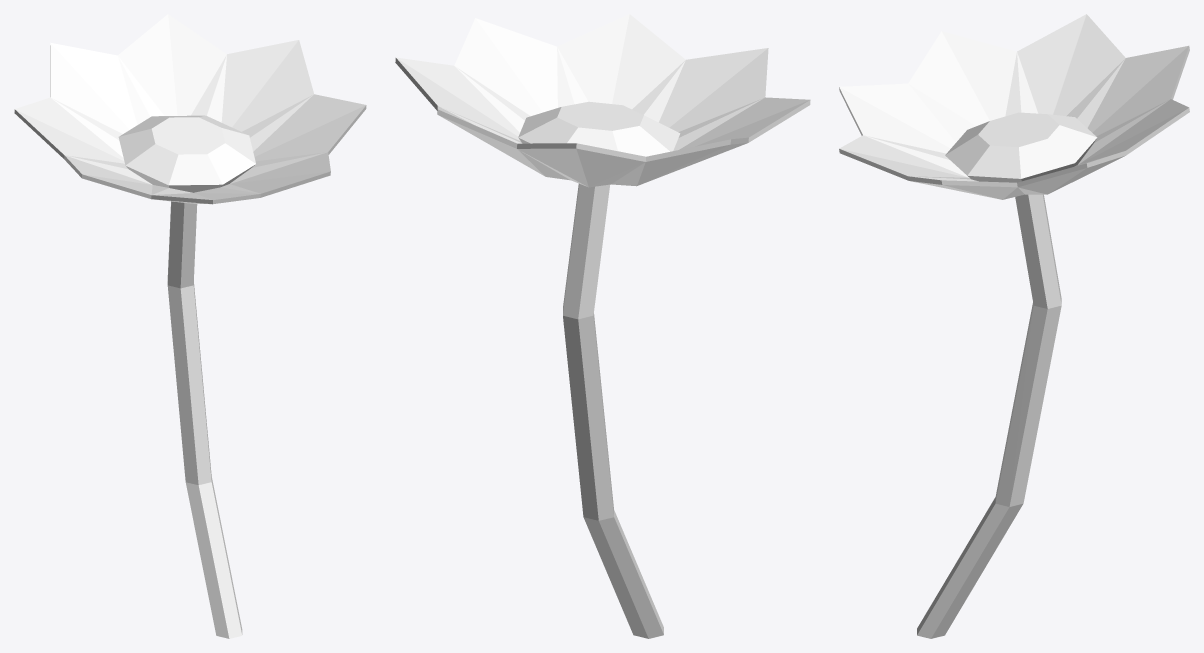
File: Env_Flowers_04.glb
3 views of the same model, side by side, from view 1: azimuth 30°, elevation 25°; view 2: azimuth 150°, elevation 25°; view 3: azimuth 270°, elevation 25° (orthographic). The views are drawn at different scales.
Parts seen in each view (by area): view 1: Env_Flowers_04; view 2: Env_Flowers_04; view 3: Env_Flowers_04.
Part boxes in pixels (x1=…): Env_Flowers_04: x1=14, y1=14, x2=366, y2=638; Env_Flowers_04: x1=395, y1=14, x2=810, y2=638; Env_Flowers_04: x1=839, y1=14, x2=1189, y2=638.
Size of the model in its own units: 0.1996 by 0.3465 by 0.1984.
1 material, 1 textured.
